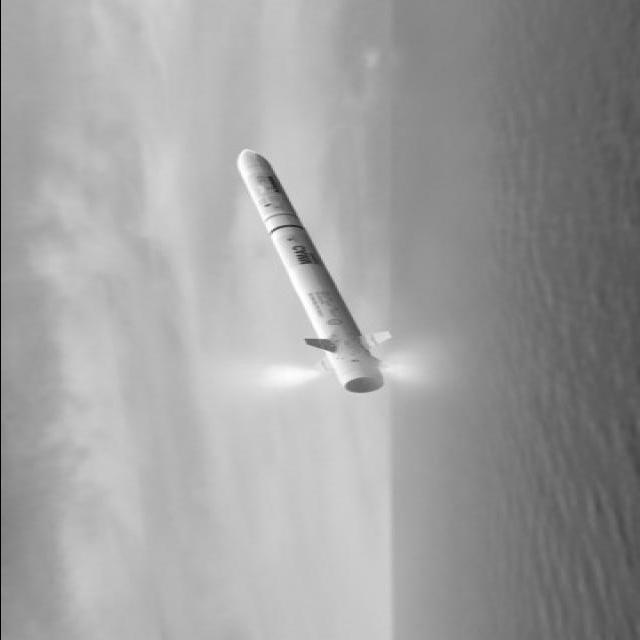missile: (220, 148, 400, 398)
